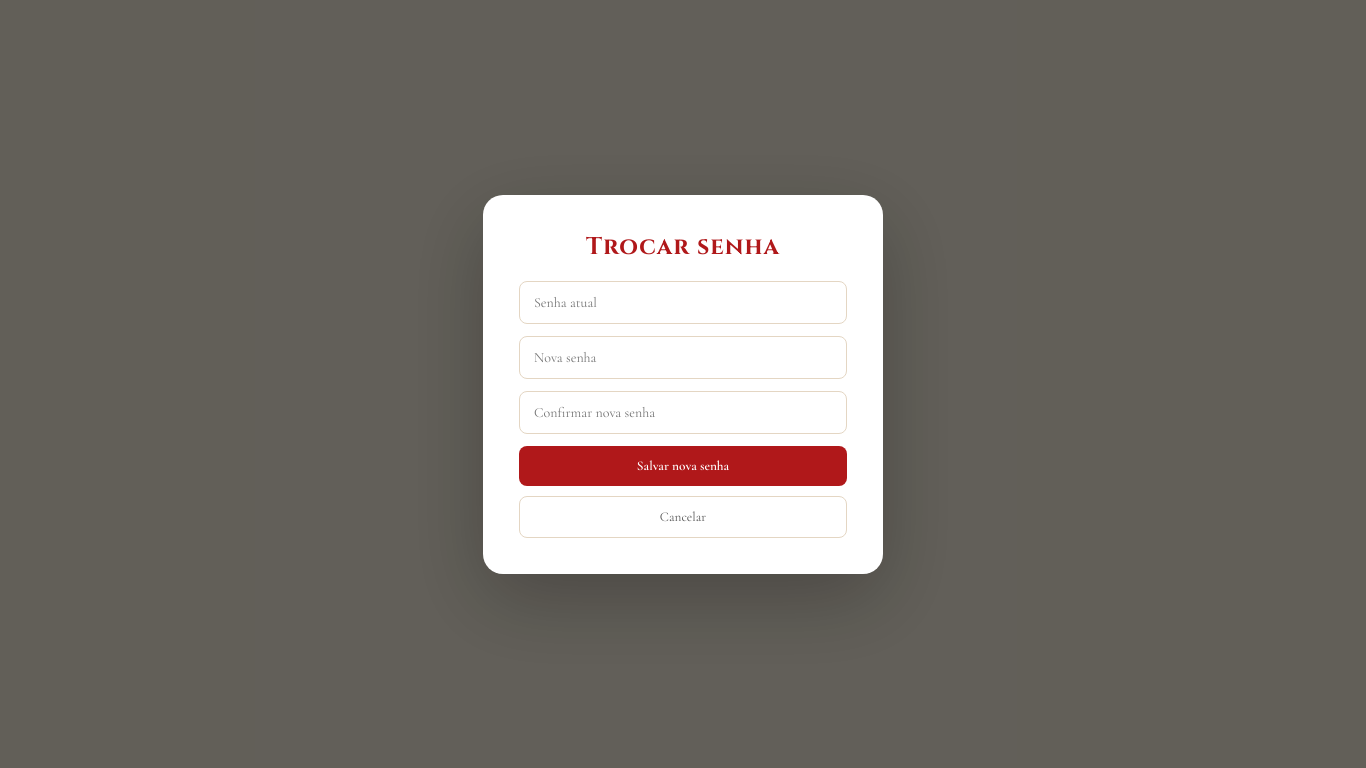
Test case: ChangePasswordModal › enforces the strength rule (8 chars, letter + number)
This screenshot has width=1366, height=768.
In the password field with placeholder "Senha atual": (683, 302) [519,280,847,324], type "old"
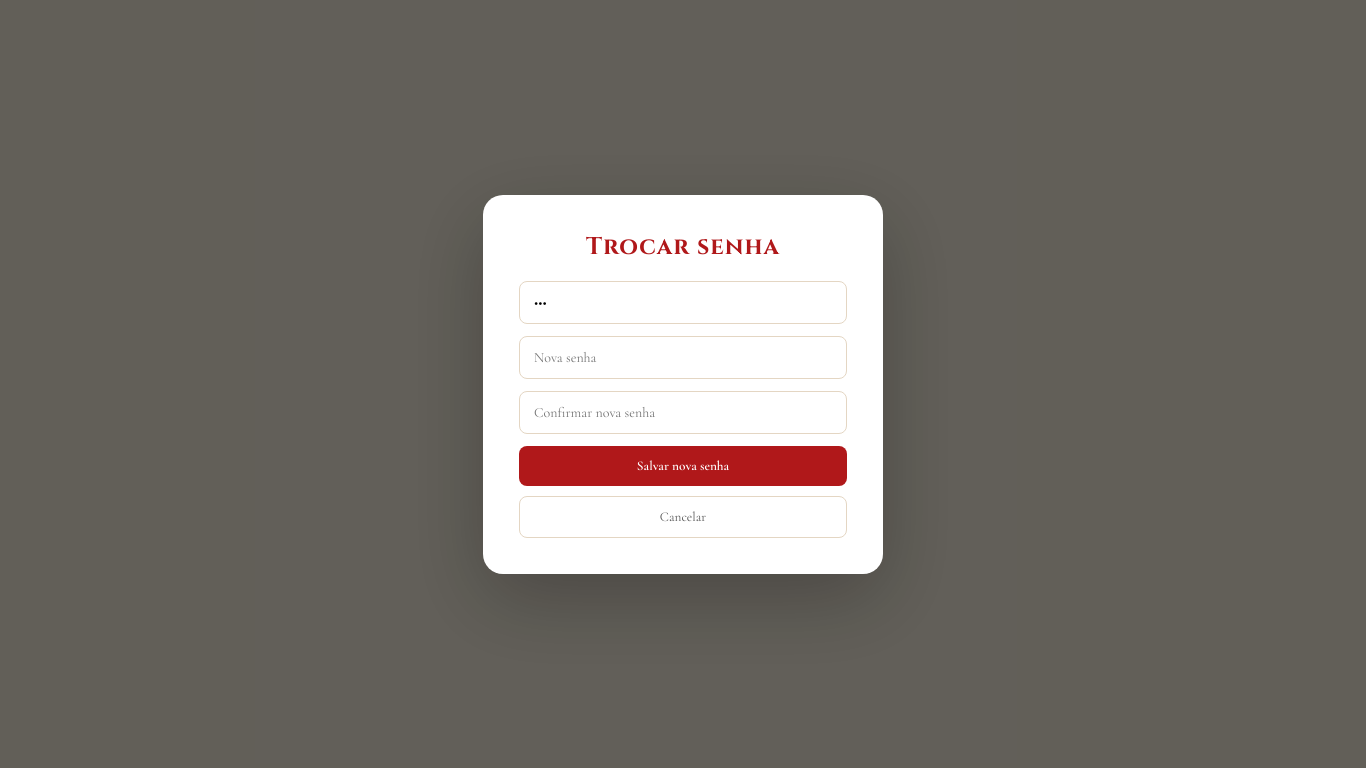
In the password field with placeholder "Nova senha": (683, 357) [519,336,847,378], type "abcdefgh"
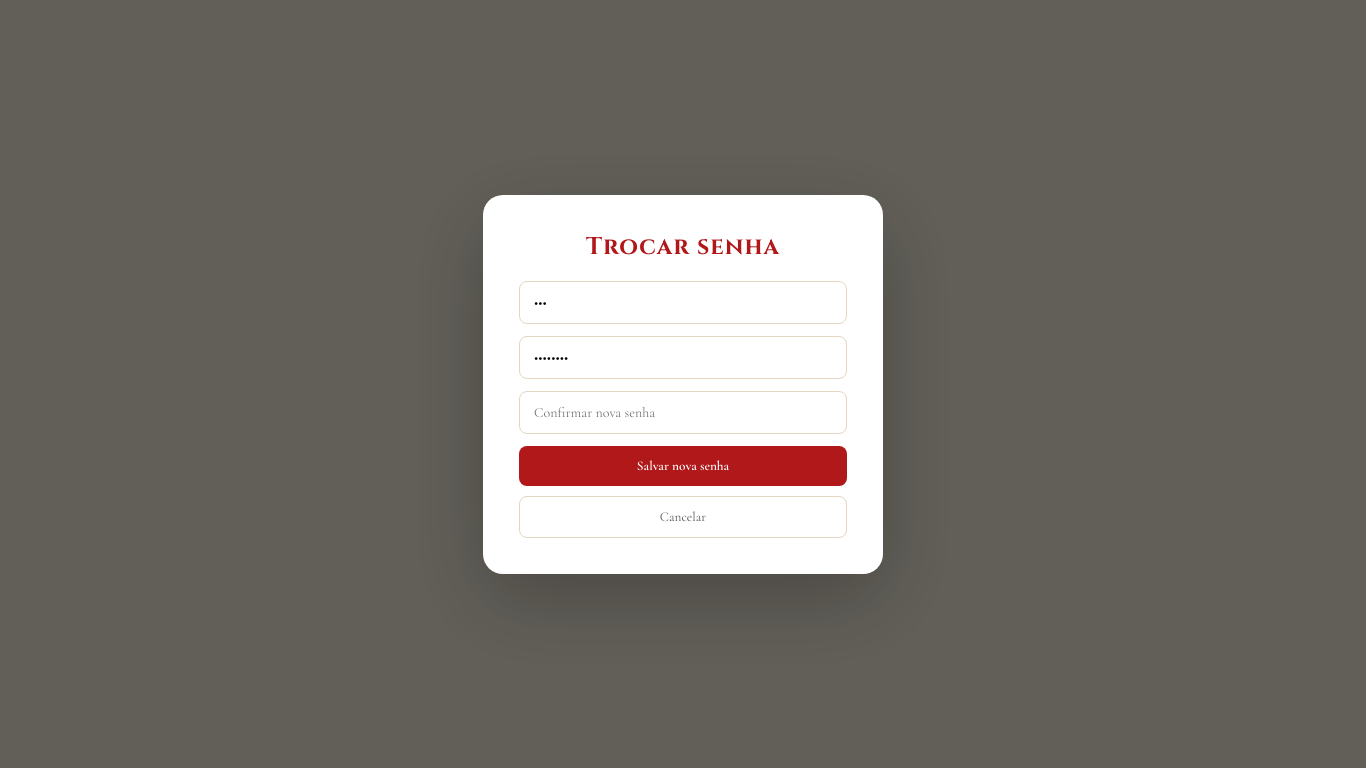
In the password field with placeholder "Confirmar nova senha": (683, 412) [519,390,847,434], type "abcdefgh"
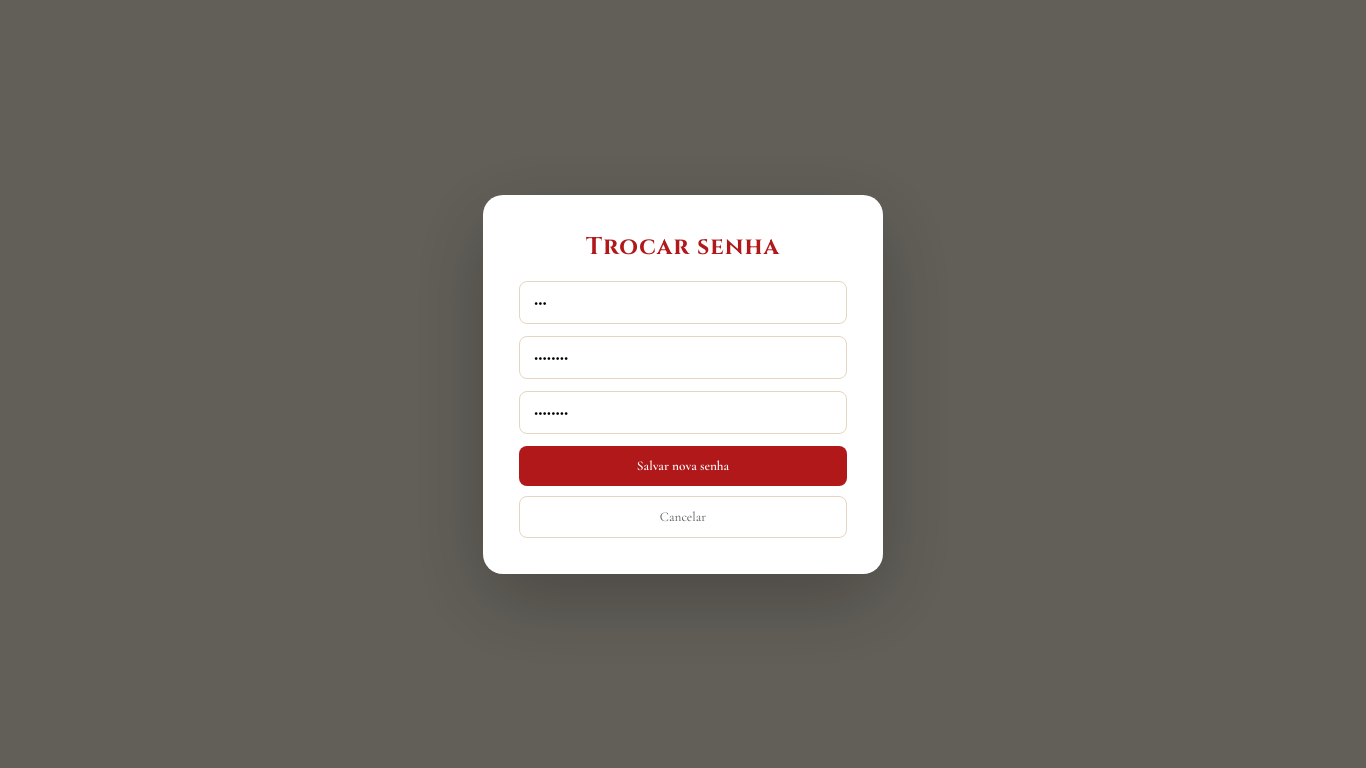
Click the button "Salvar nova senha": (683, 466) [519,446,847,486]
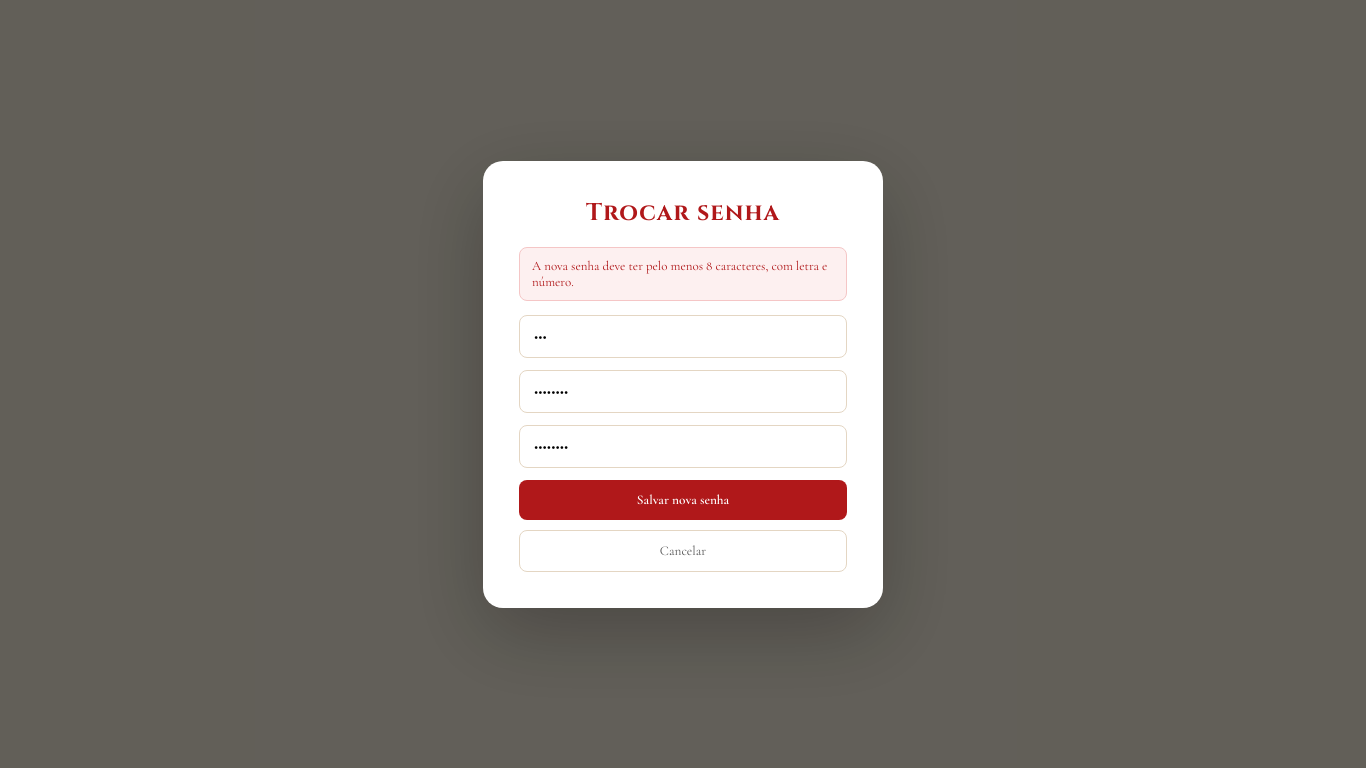
Expected: the text "pelo menos 8 caracteres" is shown, [532,258,827,290]
